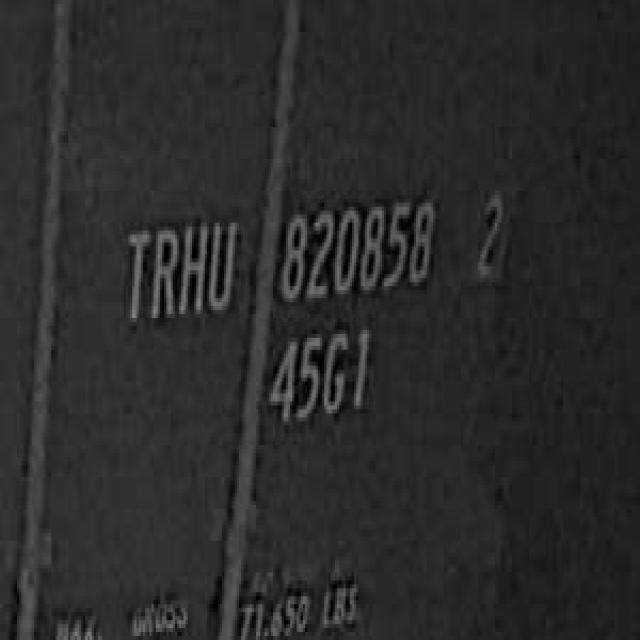dv: (469, 179, 510, 286)
owner: (117, 207, 237, 334)
serial: (269, 187, 437, 306)
size: (264, 314, 374, 433)
